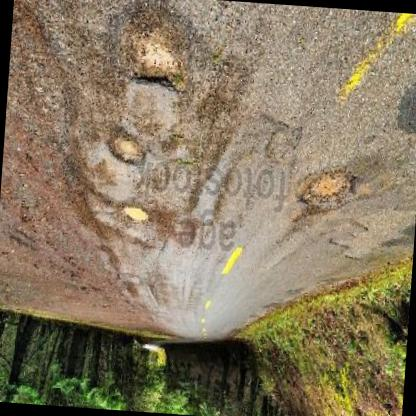pothole: (124, 31, 190, 93), (296, 167, 361, 213), (107, 126, 148, 168), (119, 204, 152, 226)
